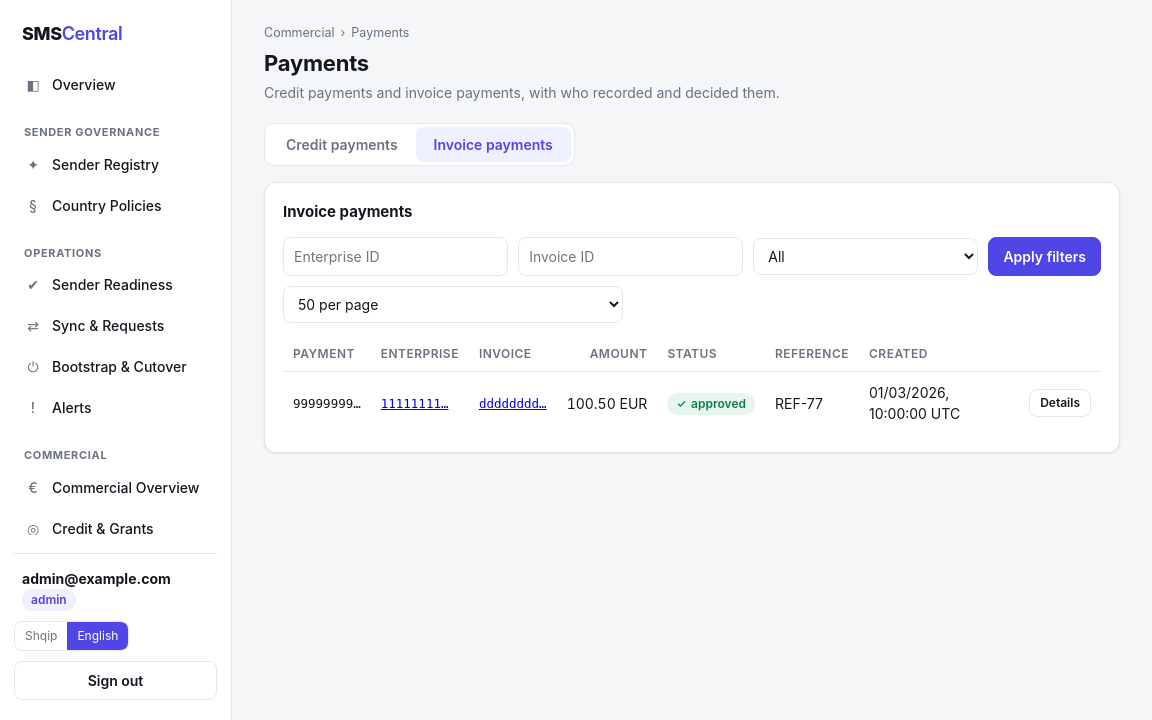
payments › 13 an invalid ID filter is blocked locally and never sent
Expected: the navigation bar named "Main navigation" is shown, x1=14 y1=65 x2=217 y2=535
Expected: the text "REF-77" is shown, x1=765 y1=372 x2=859 y2=434
In the field labelled "Invoice ID": (631, 257) x1=518 y1=237 x2=743 y2=276, type "nope"
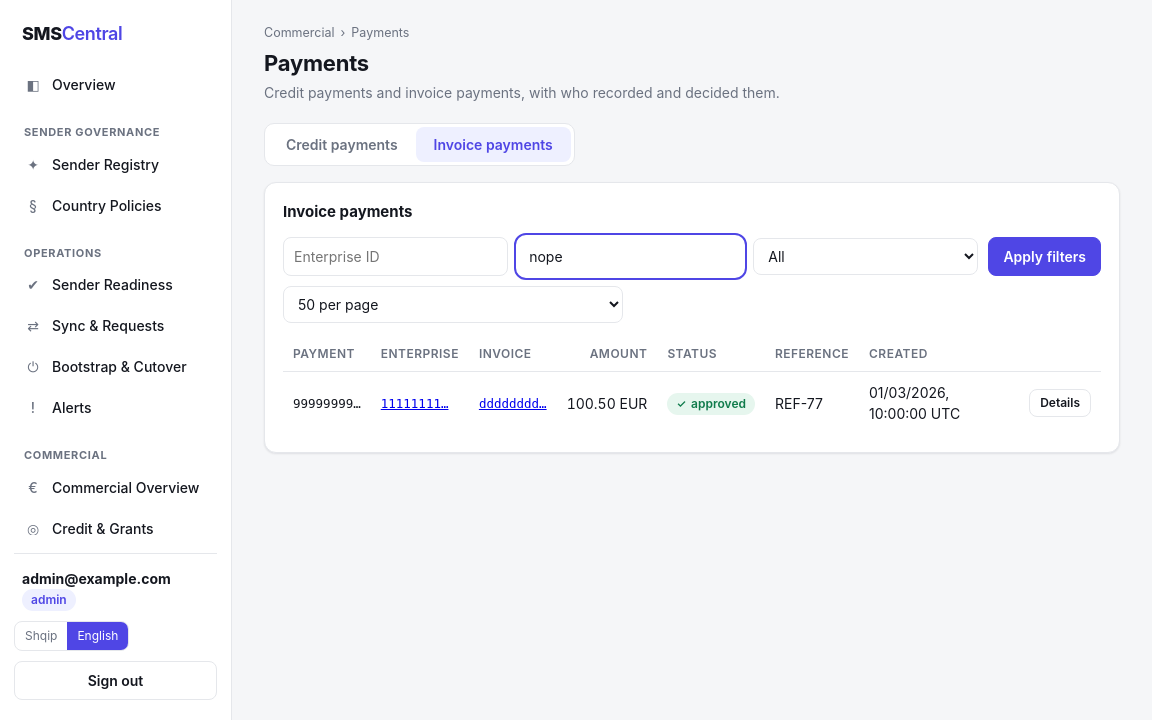
Click the button "Apply filters": (1045, 257) x1=988 y1=237 x2=1101 y2=276
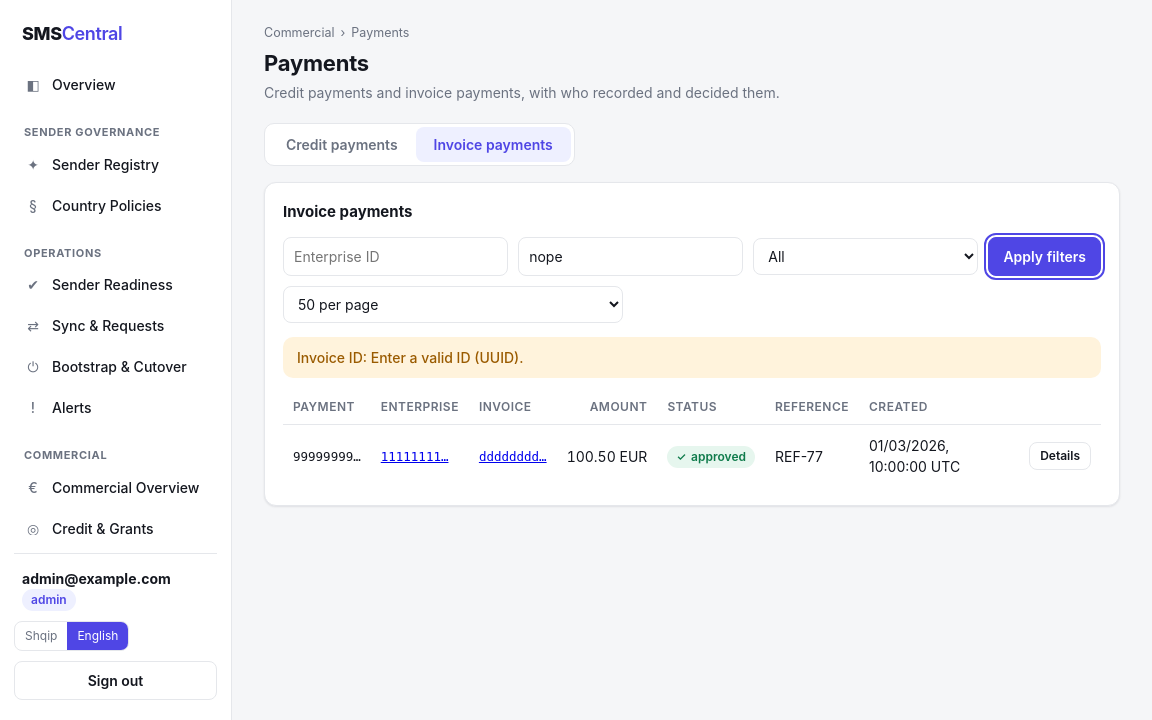
Expected: the text "Invoice ID: Enter a valid ID (UUID)." is shown, x1=297 y1=347 x2=524 y2=368
